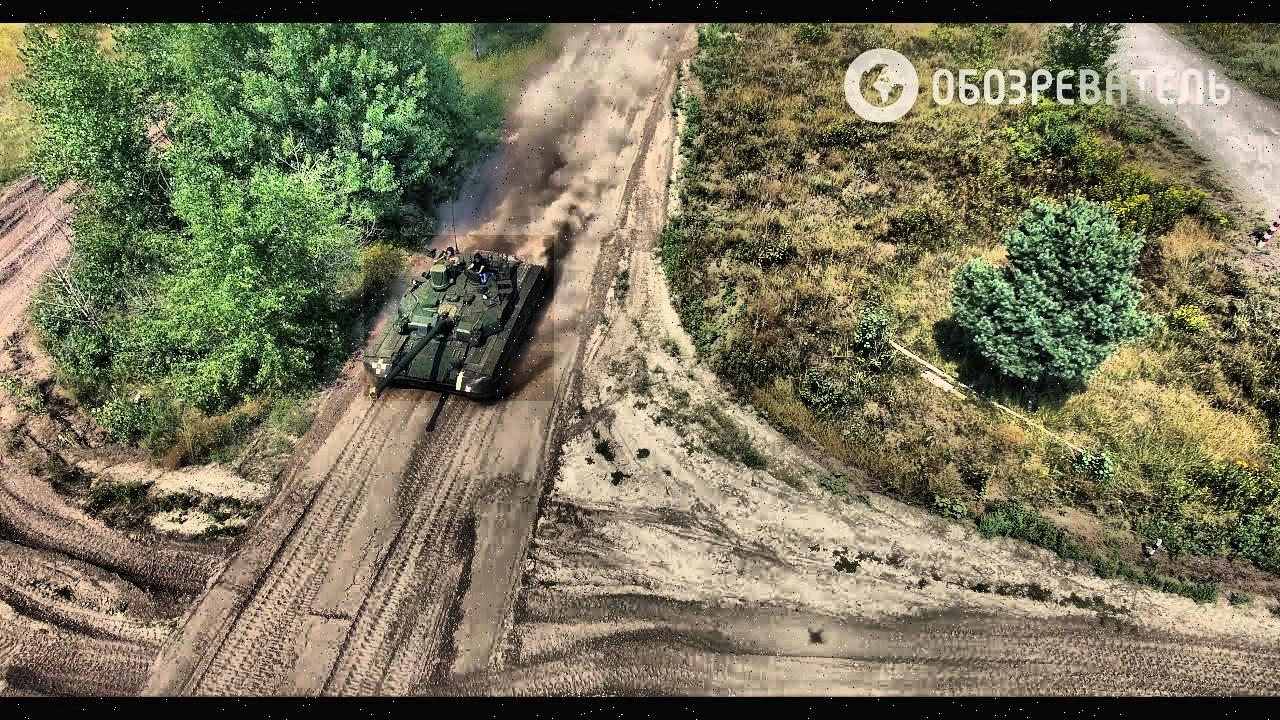military-vehicle: (364, 236, 554, 402)
